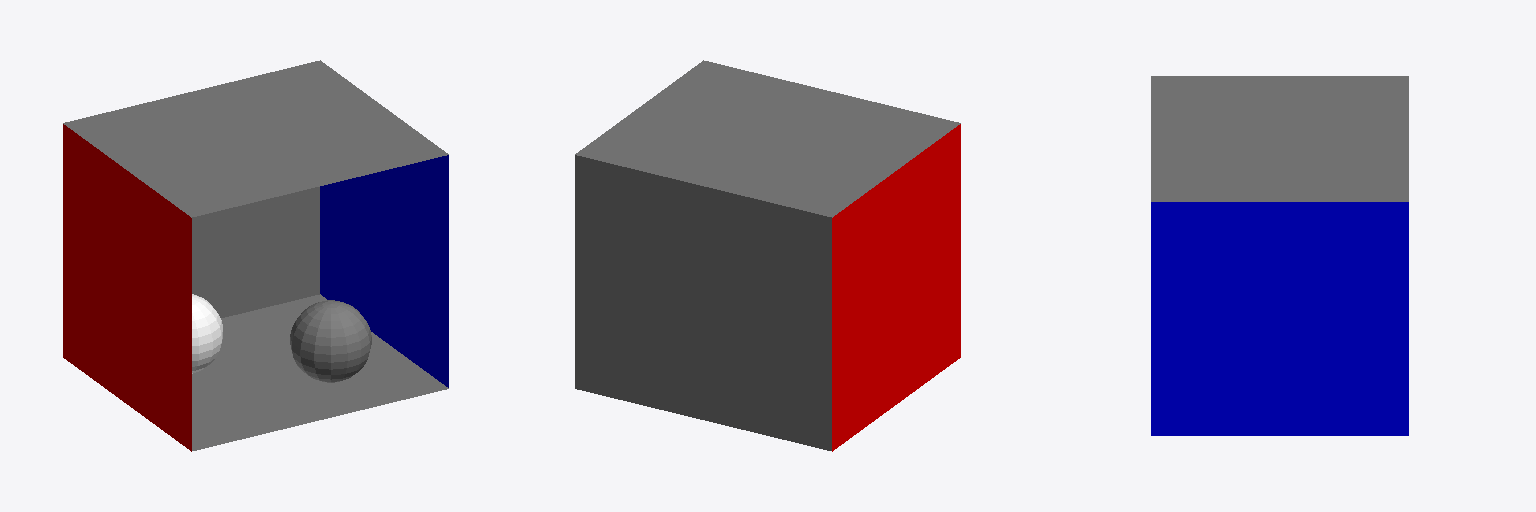
3 renders of one model, left to right at view 1: azimuth 30°, elevation 25°; view 2: azimuth 150°, elevation 25°; view 3: azimuth 270°, elevation 25°, orthographic.
Visible parts, largest first — view 1: pCube1, pCube1_WallR, pCube1_Wallb, pSphere2, pSphere1; view 2: pCube1, pCube1_WallR; view 3: pCube1_Wallb, pCube1.
Boxes of the visible parts, <box> form: pCube1: <box>63,60,448,450</box>; pCube1_WallR: <box>63,124,191,451</box>; pCube1_Wallb: <box>320,155,448,387</box>; pSphere2: <box>290,300,371,382</box>; pSphere1: <box>192,294,222,373</box>; pCube1: <box>575,60,960,450</box>; pCube1_WallR: <box>832,124,960,451</box>; pCube1_Wallb: <box>1151,202,1408,435</box>; pCube1: <box>1151,76,1408,201</box>.
Bounding box in the file's own units: 11.53 × 10 × 10.